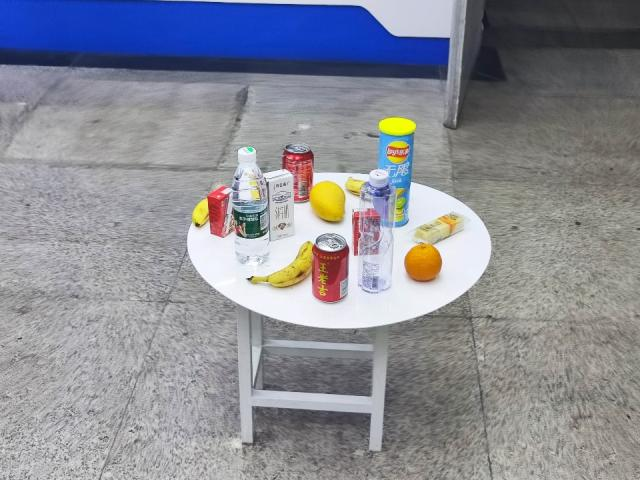Canned_drinks: (311, 227, 349, 308), (288, 141, 313, 204)
bottle: (233, 147, 273, 274), (356, 173, 395, 296)
cylinder: (375, 118, 416, 235)
